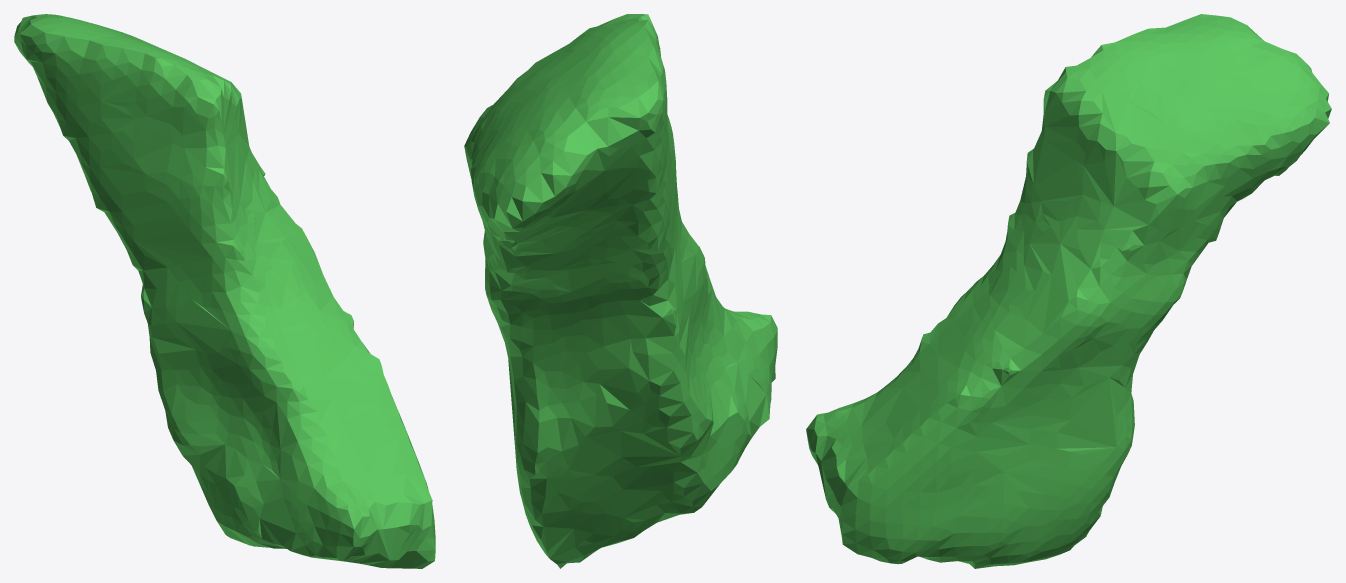
The model's file is Model_103_RH__Parainsular_cortex__lateral_part_(PaIL).obj.
3 renders of one model, left to right at view 1: azimuth 30°, elevation 25°; view 2: azimuth 150°, elevation 25°; view 3: azimuth 270°, elevation 25°, orthographic. The views are drawn at different scales.
Bounding box in the file's own units: 1.47 × 3 × 3.
